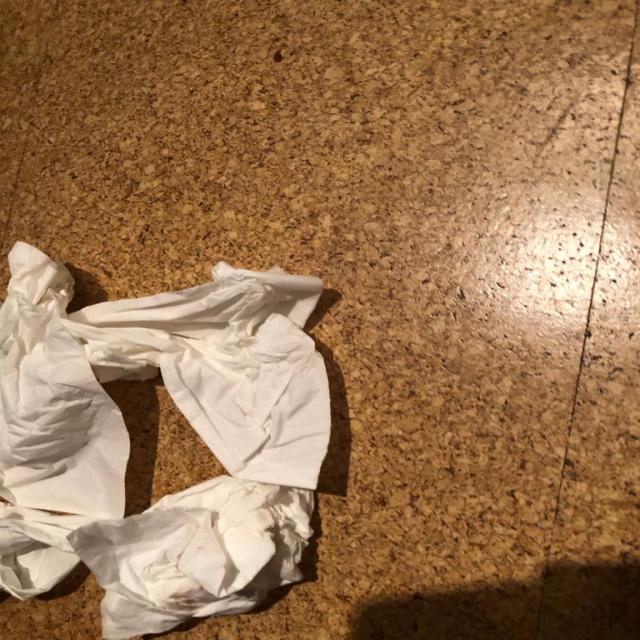kitchen paper: (19, 259, 342, 489), (0, 239, 121, 603), (73, 473, 321, 640)
